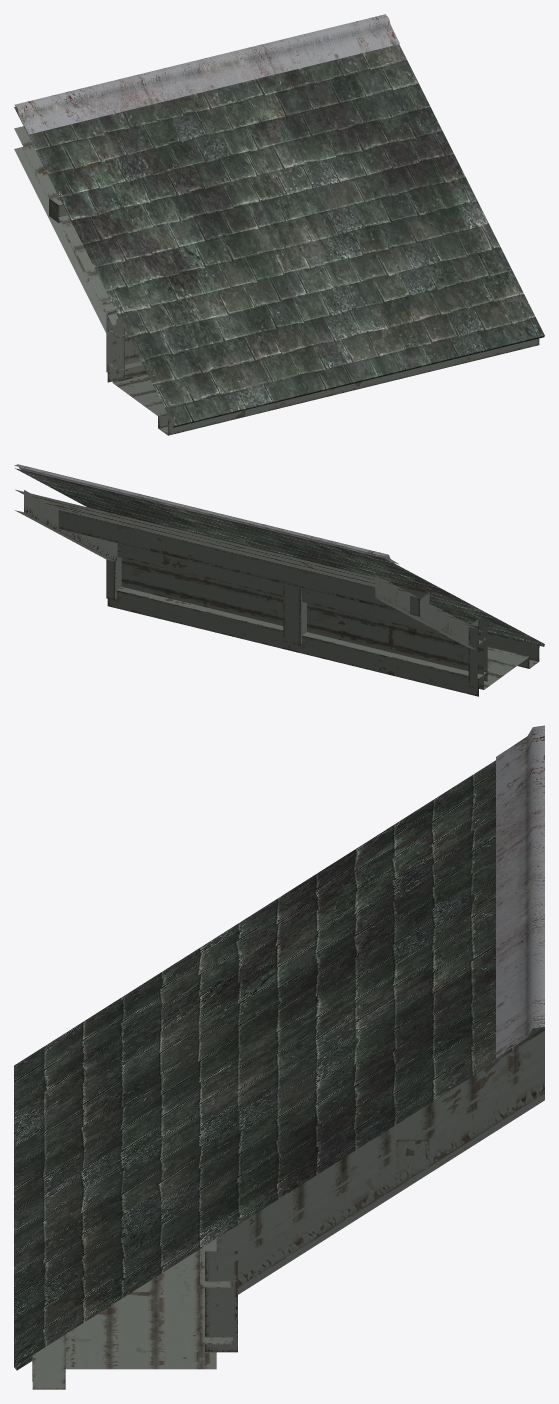
Rendered from SM_Roof200x400.FBX.
3 renders of one model, top to bottom at view 1: azimuth 30°, elevation 25°; view 2: azimuth 150°, elevation 25°; view 3: azimuth 270°, elevation 25°, orthographic. The views are drawn at different scales.
Parts seen in each view (by area): view 1: SM_Roof200x400; view 2: SM_Roof200x400; view 3: SM_Roof200x400.
Part boxes in pixels (box(x1,y1,x2,y2)): SM_Roof200x400: box(14, 14, 544, 435); SM_Roof200x400: box(14, 464, 544, 696); SM_Roof200x400: box(14, 725, 544, 1389).
Size of the model in its own units: 400 by 224 by 298.
